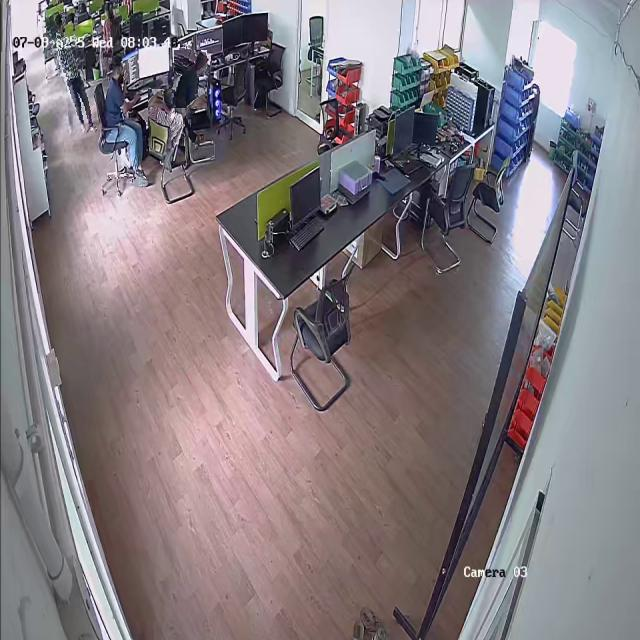person: (101, 60, 146, 179), (52, 12, 91, 140), (149, 89, 185, 161), (172, 50, 209, 110)
